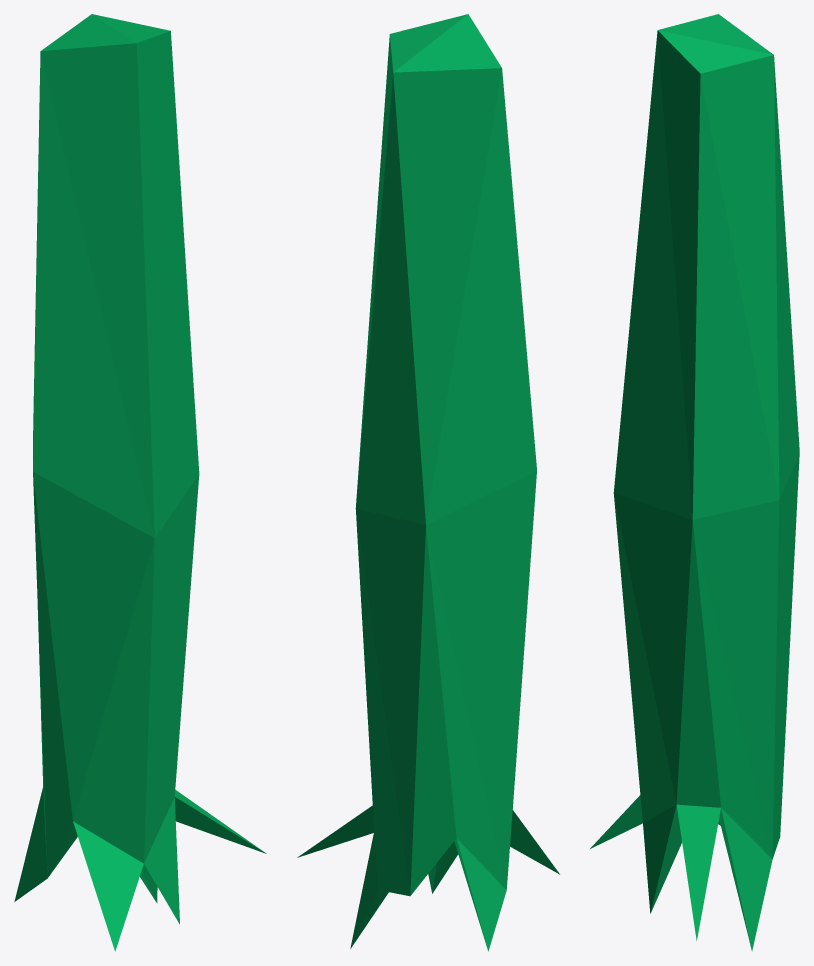
File: SeguaroCactusMedium2_LOD2.fbx
3 views of the same model, side by side, from view 1: azimuth 30°, elevation 25°; view 2: azimuth 150°, elevation 25°; view 3: azimuth 270°, elevation 25° (orthographic). The views are drawn at different scales.
Parts seen in each view (by area): view 1: SeguaroCactusMedium2_LOD2; view 2: SeguaroCactusMedium2_LOD2; view 3: SeguaroCactusMedium2_LOD2.
Boxes of the visible parts, x1,y1,x2,y2 form: SeguaroCactusMedium2_LOD2: (14, 14, 266, 951); SeguaroCactusMedium2_LOD2: (297, 14, 559, 951); SeguaroCactusMedium2_LOD2: (590, 14, 799, 951).
Size of the model in its own units: 65.83 by 307 by 83.34.
